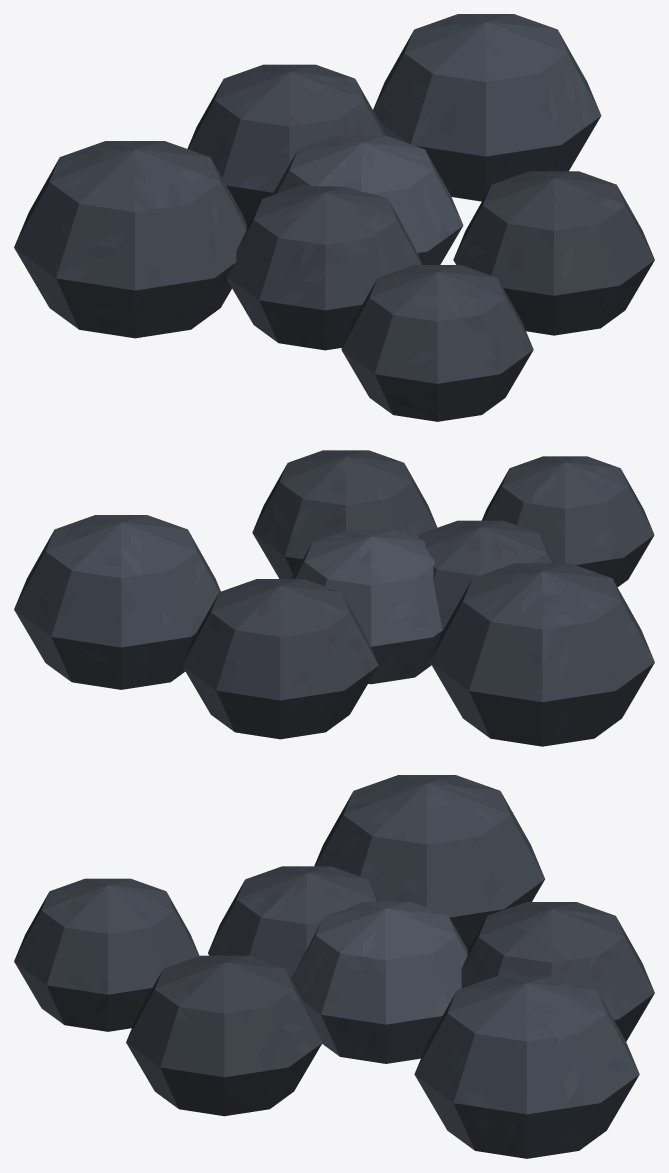
File: nannyberries.glb
The picture shows the model from 3 angles, top to bottom: view 1: azimuth 30°, elevation 25°; view 2: azimuth 150°, elevation 25°; view 3: azimuth 270°, elevation 25°; orthographic projection. The views are drawn at different scales.
Visible parts, largest first — view 1: block_individual berry (×7); view 2: block_individual berry (×7); view 3: block_individual berry (×7).
Part boxes in pixels (box(x1,y1,x2,y2)): block_individual berry (×7): box(14, 14, 654, 421); block_individual berry (×7): box(14, 450, 654, 746); block_individual berry (×7): box(14, 775, 654, 1158).
Size of the model in its own units: 0.1084 by 0.0306 by 0.102.
Materials: 1 (1 with a texture image).
